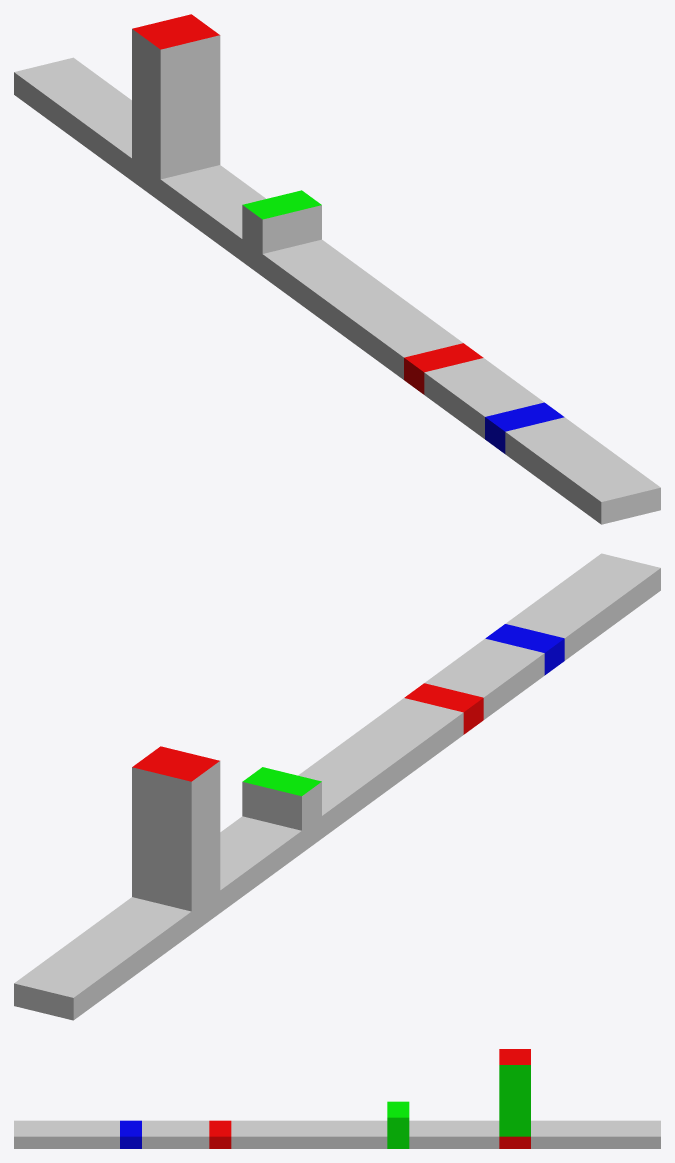
The model's file is Level_01.FBX.
3 views of the same model, one above another, from view 1: azimuth 30°, elevation 25°; view 2: azimuth 150°, elevation 25°; view 3: azimuth 270°, elevation 25° (orthographic). The views are drawn at different scales.
Visible parts, largest first — view 1: White, Red, Blue, Green; view 2: White, Red, Blue, Green; view 3: White, Green, Red, Blue.
Part boxes in pixels (box(x1,y1,x2,y2)): White: box(14, 29, 660, 524); Red: box(132, 14, 483, 394); Blue: box(485, 402, 564, 453); Green: box(242, 190, 321, 219); White: box(14, 553, 660, 1020); Red: box(132, 683, 483, 781); Blue: box(485, 624, 564, 675); Green: box(242, 767, 321, 796); White: box(14, 1120, 660, 1148); Green: box(387, 1065, 530, 1148); Red: box(209, 1049, 530, 1148); Blue: box(120, 1120, 141, 1148).
Bounding box in the file's own units: 8.54 × 20.89 × 146.
